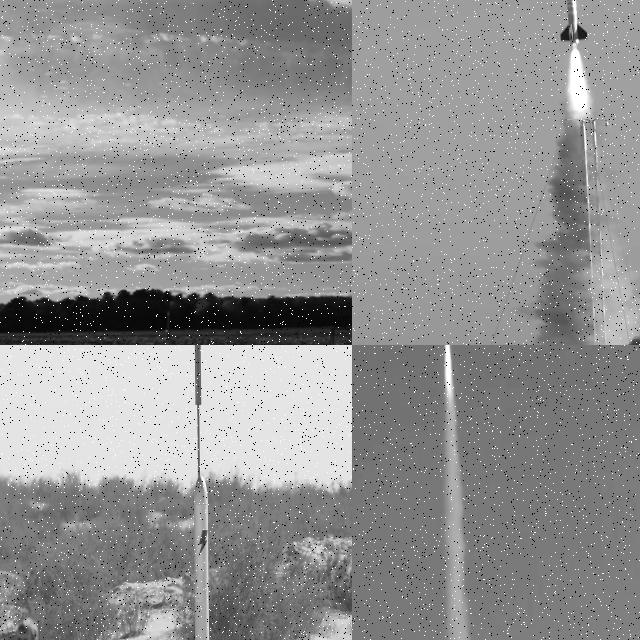Rocket: (186, 472, 221, 640), (558, 0, 586, 46), (165, 310, 171, 333)
